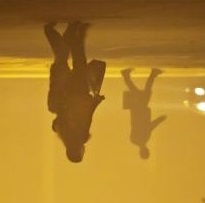person: (62, 18, 106, 163), (119, 66, 168, 161), (44, 16, 74, 132)
